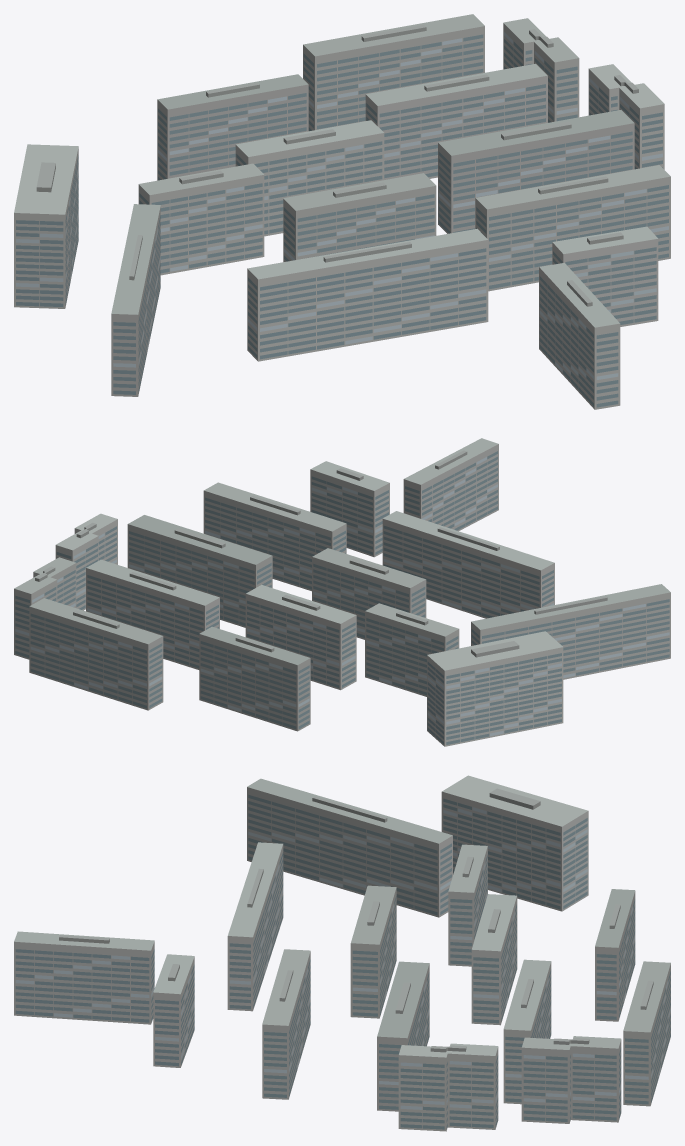
Rendered from apt-a13885306.glb.
The picture shows the model from 3 angles, top to bottom: view 1: azimuth 30°, elevation 25°; view 2: azimuth 150°, elevation 25°; view 3: azimuth 270°, elevation 25°; orthographic projection. The views are drawn at different scales.
Visible parts, largest first — view 1: apt-a13885306; view 2: apt-a13885306; view 3: apt-a13885306.
Boxes of the visible parts, box(x1,y1,x2,y2) form: apt-a13885306: box(14, 14, 670, 409); apt-a13885306: box(14, 438, 670, 746); apt-a13885306: box(14, 775, 670, 1131).
Bounding box in the file's own units: 296 × 44 × 295.
